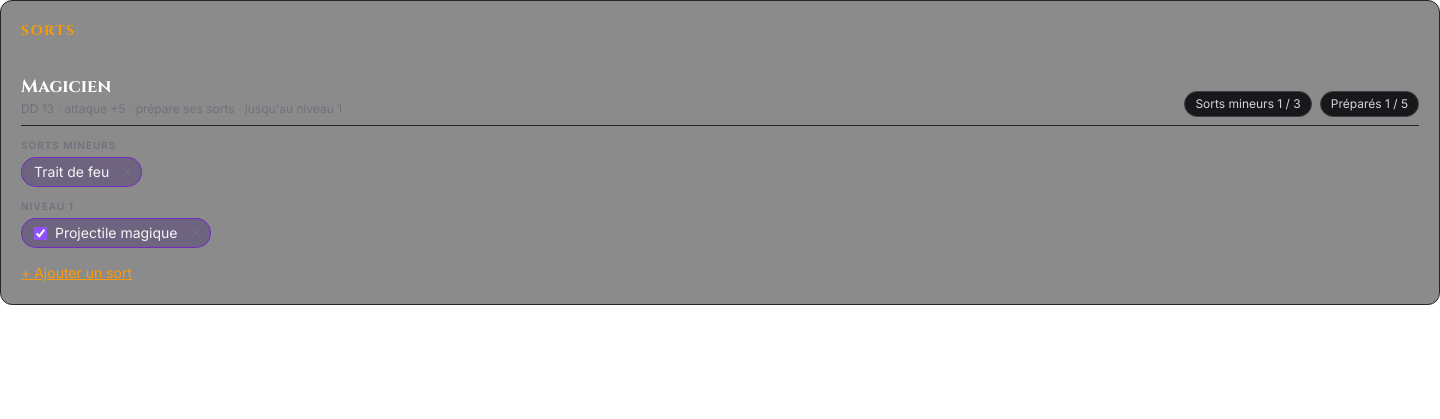
Test: SheetSpells › loads the spell list when the classes arrive after the first render
The image size is (1440, 419).
Click the button "+ Ajouter un sort": (77, 273) 21,263 -> 132,283
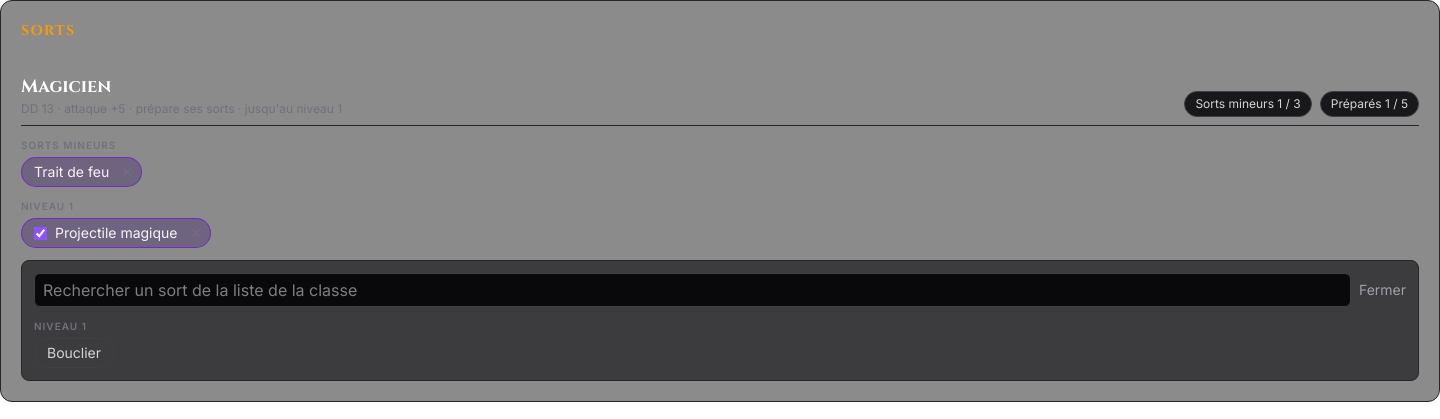
Check: the text "Bouclier" is shown, box 34,338 -> 114,368
